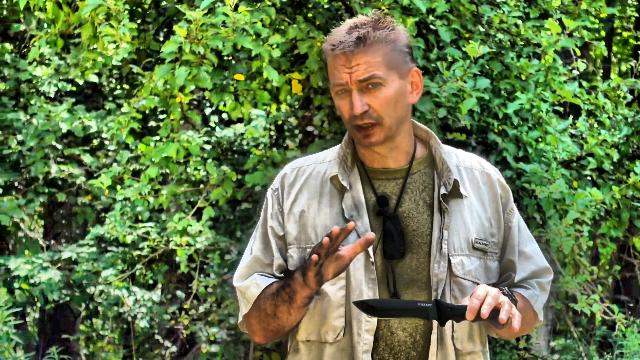knife: (346, 282, 524, 334)
